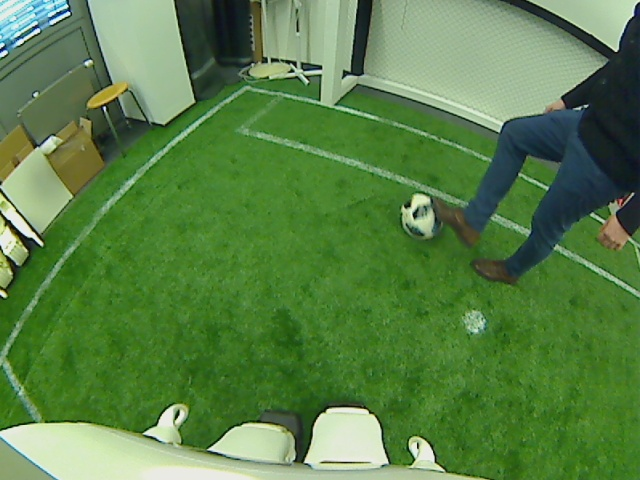ball: (398, 192, 440, 240)
